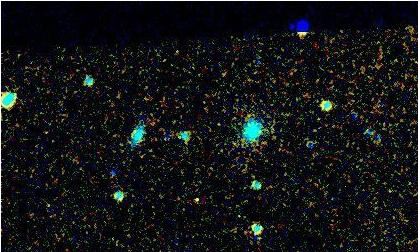star: (181, 184, 211, 214)
